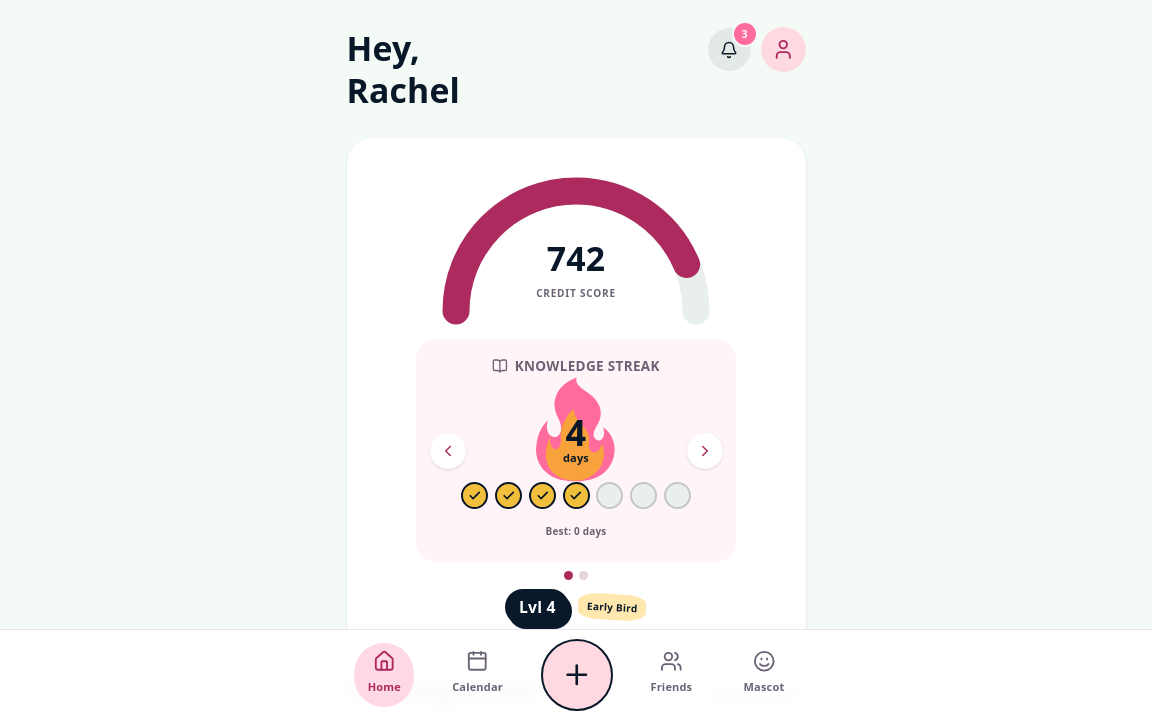
Scenario: DashboardPage › starts on the knowledge streak and pages to the payment streak
Expected: the text "742" is shown, [547, 242, 605, 275]
Step 1. Click the button named "show next streak" → (704, 451), box [686, 433, 722, 469]
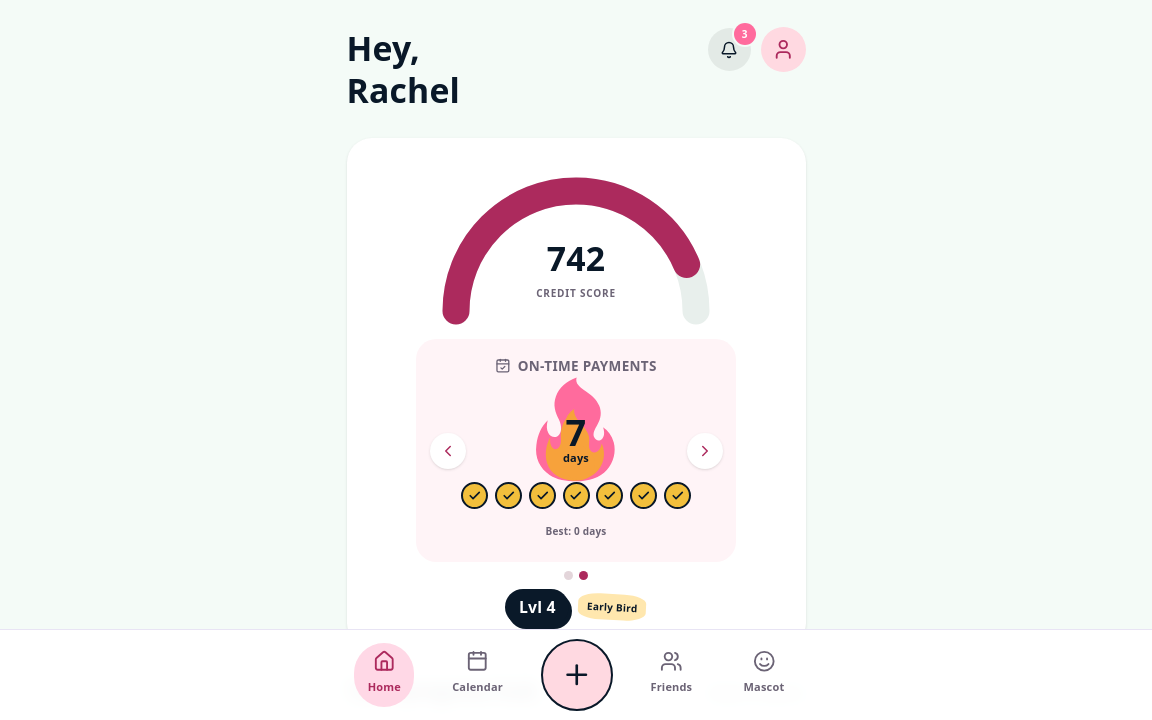
Now the text "On-time payments" is shown, box [495, 357, 657, 375]
